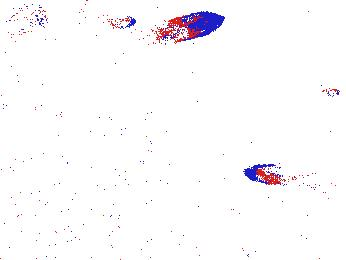X-ray fish: (1, 1, 56, 37), (163, 10, 223, 43)
red belly glassfish: (245, 164, 315, 189), (80, 7, 137, 30), (299, 78, 341, 97)
